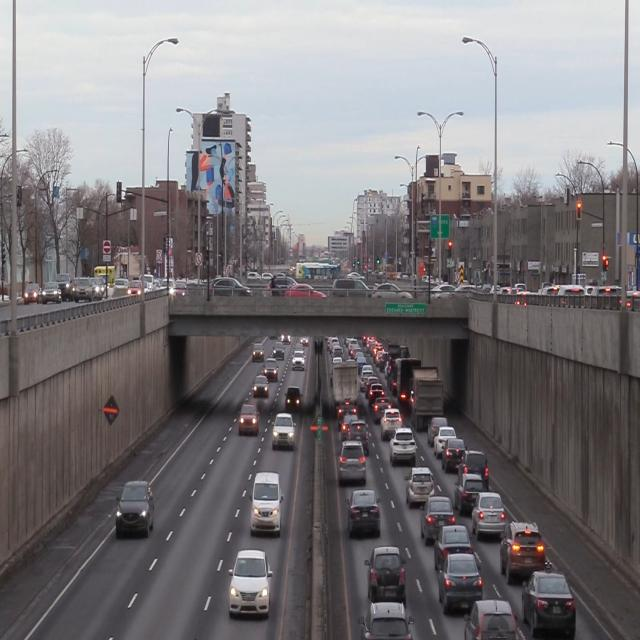Car: (228, 545, 274, 619), (523, 574, 577, 636), (501, 517, 541, 579), (367, 545, 408, 604), (441, 556, 484, 608), (465, 597, 517, 640), (250, 472, 284, 536), (118, 480, 156, 534), (432, 524, 473, 564), (473, 492, 506, 539), (349, 489, 382, 534), (423, 498, 457, 539), (402, 466, 434, 505), (456, 473, 483, 511), (237, 399, 263, 436), (273, 413, 295, 450), (283, 385, 304, 413), (252, 377, 270, 401)
